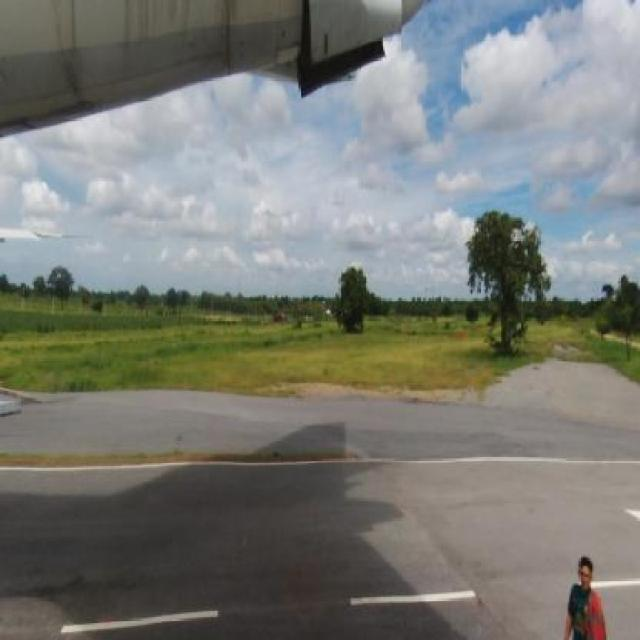Rust: (115, 1, 248, 76), (49, 0, 93, 57)
